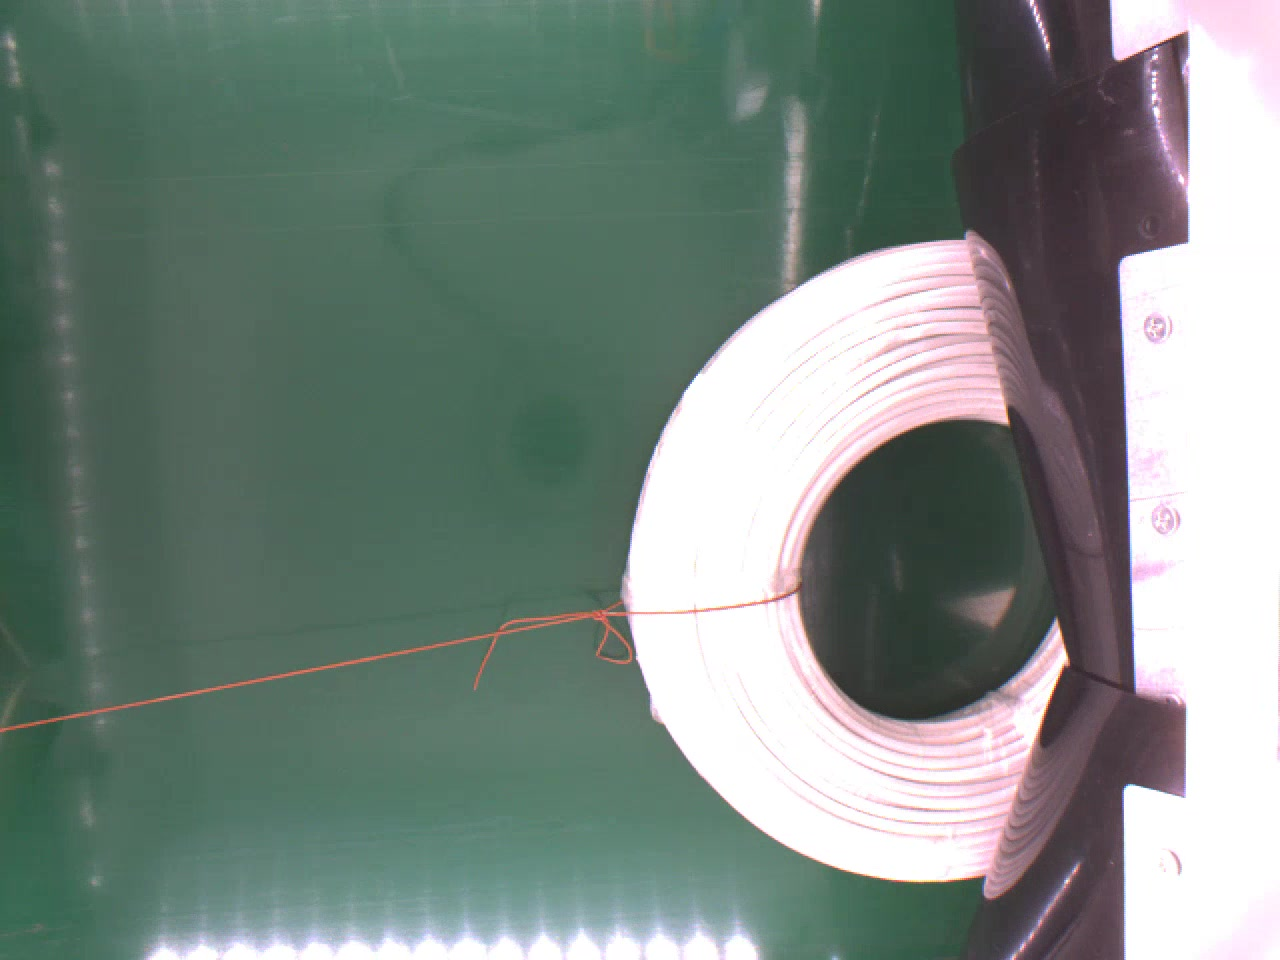white: (621, 240, 1070, 881)
